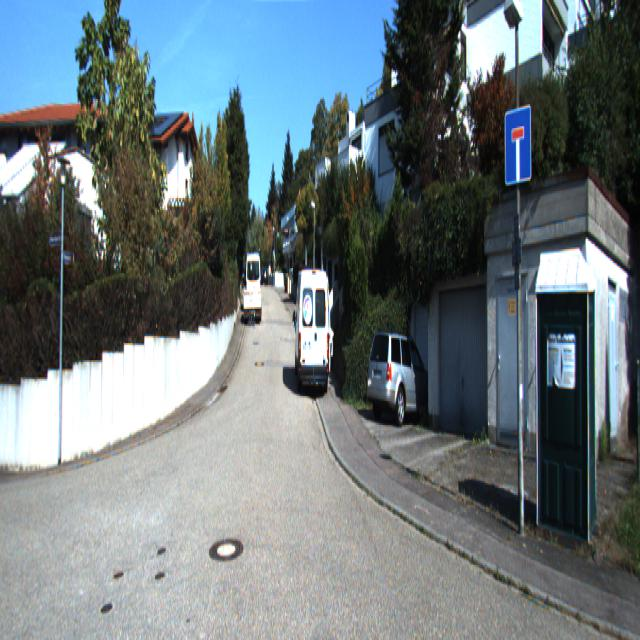Car: (364, 322, 440, 420), (293, 258, 332, 392), (246, 251, 261, 312), (242, 290, 262, 321)
